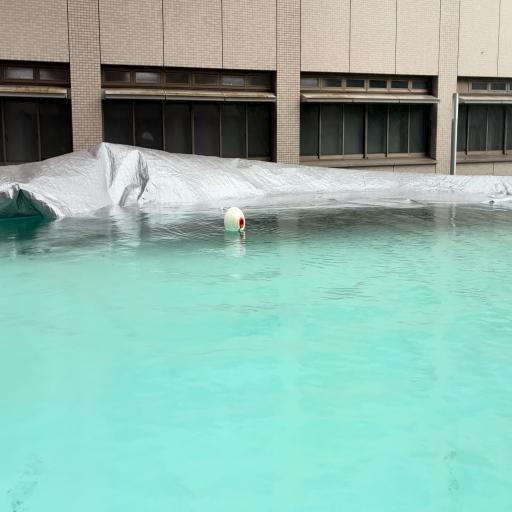white buoy: (224, 206, 245, 232)
